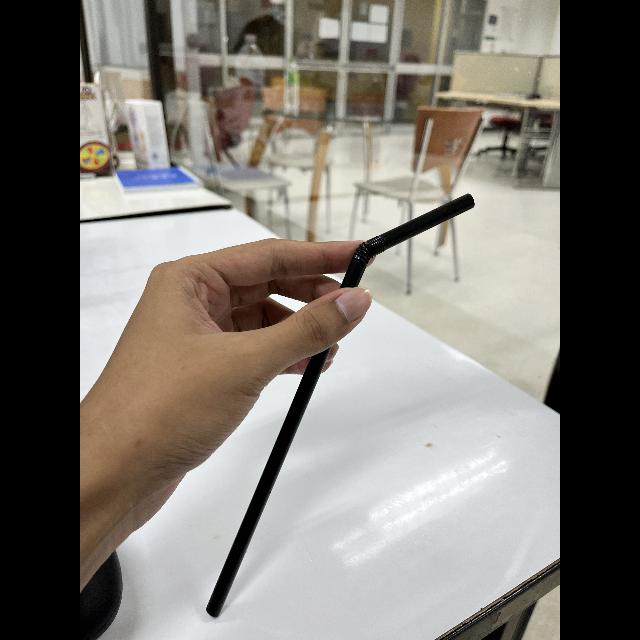straw: (206, 191, 474, 619)
